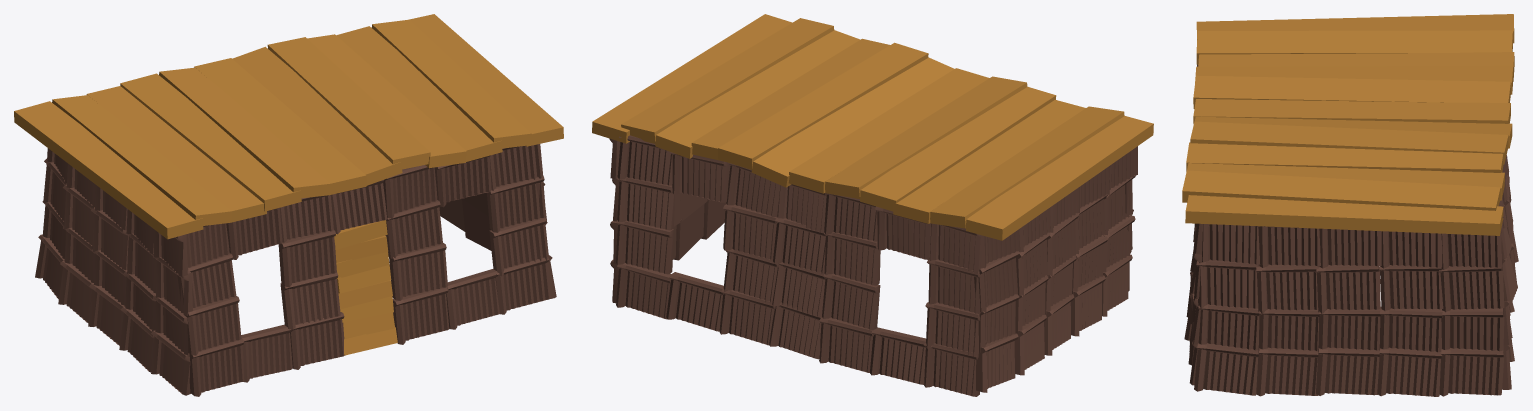
3 views of the same model, side by side, from view 1: azimuth 30°, elevation 25°; view 2: azimuth 150°, elevation 25°; view 3: azimuth 270°, elevation 25° (orthographic). The views are drawn at different scales.
Visible parts, largest first — view 1: node_MeshObject640392192-PolyPaper21; view 2: node_MeshObject640392192-PolyPaper21; view 3: node_MeshObject640392192-PolyPaper21.
Part boxes in pixels (x1,y1,x2,y2): node_MeshObject640392192-PolyPaper21: (14,14,563,396); node_MeshObject640392192-PolyPaper21: (592,14,1153,396); node_MeshObject640392192-PolyPaper21: (1182,14,1518,396).
Size of the model in its own units: 3.14 by 1.38 by 2.12.
